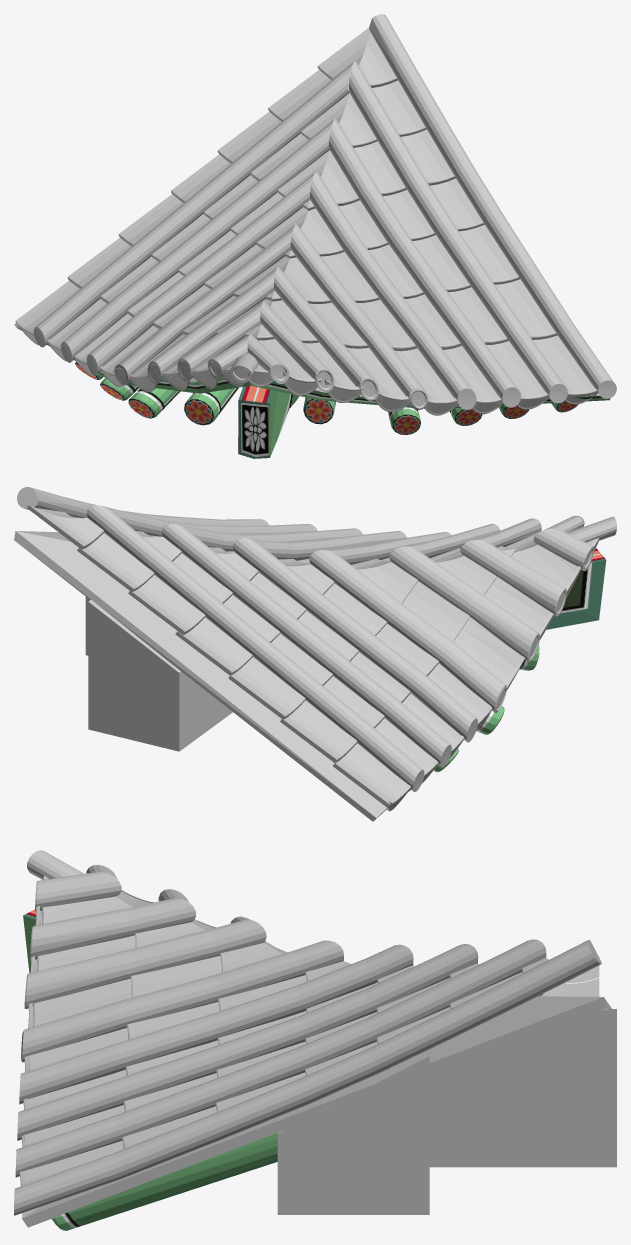
Rendered from SM_R_RoofCorner_7.fbx.
3 renders of one model, top to bottom at view 1: azimuth 30°, elevation 25°; view 2: azimuth 150°, elevation 25°; view 3: azimuth 270°, elevation 25°, orthographic. The views are drawn at different scales.
Parts seen in each view (by area): view 1: SM_R_RoofCorner_7_LOD0; view 2: SM_R_RoofCorner_7_LOD0; view 3: SM_R_RoofCorner_7_LOD0.
Boxes of the visible parts, bbox=[...] form: SM_R_RoofCorner_7_LOD0: bbox=[14, 14, 616, 458]; SM_R_RoofCorner_7_LOD0: bbox=[14, 487, 616, 821]; SM_R_RoofCorner_7_LOD0: bbox=[14, 850, 616, 1230].
Bounding box in the file's own units: 267 × 297 × 173.
